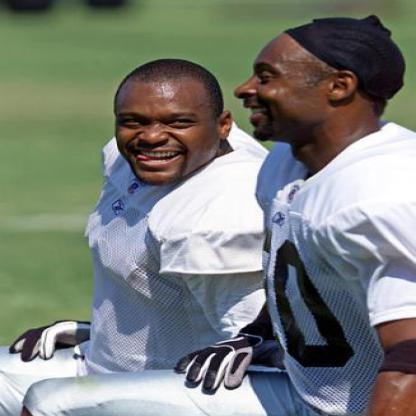face: (112, 65, 222, 186), (235, 26, 334, 148)
